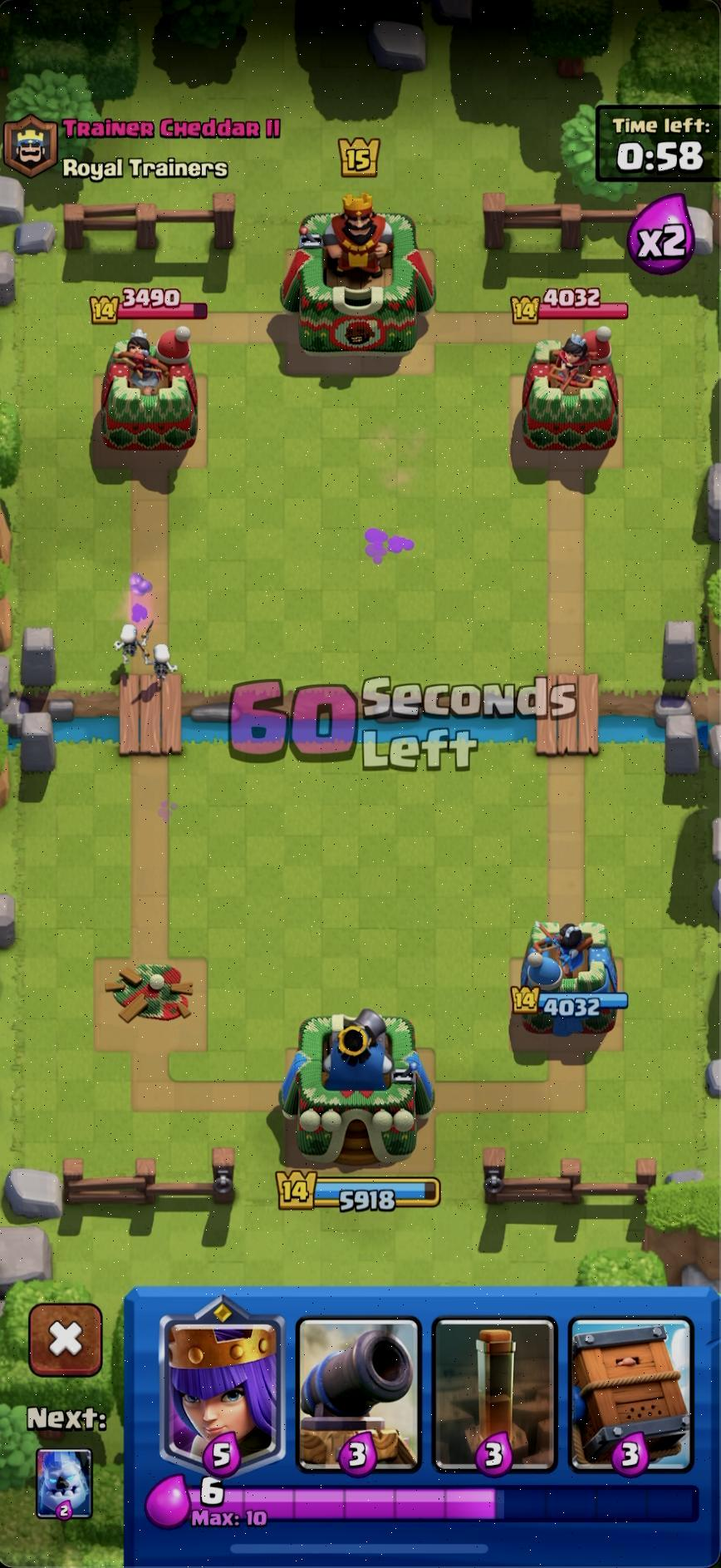card_archerqueen: (156, 1292, 292, 1481)
card_cannon: (293, 1314, 425, 1477)
card_earthquake: (431, 1313, 562, 1476)
card_icegolem: (34, 1446, 97, 1527)
card_royaldelivery: (569, 1314, 700, 1476)
